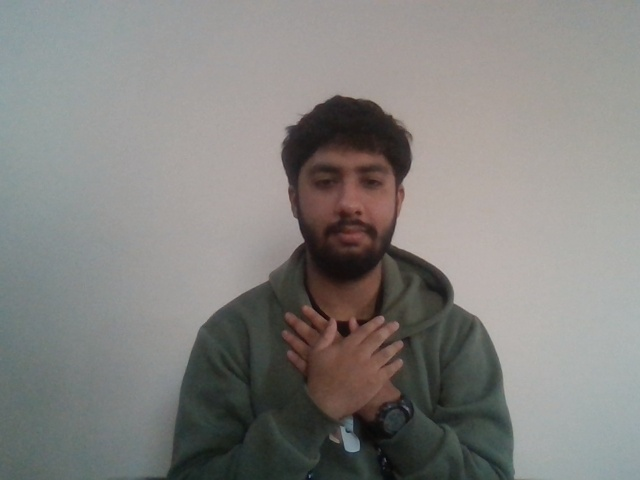Please: (262, 304, 416, 408)
